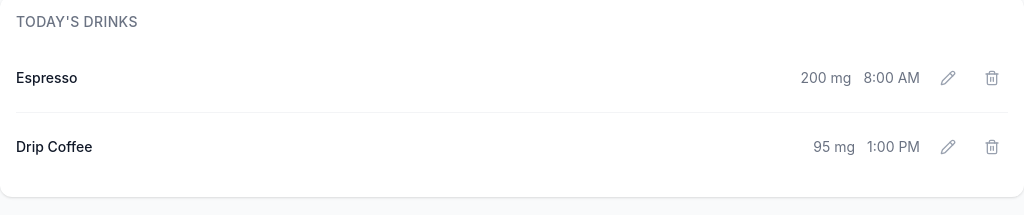
Test: DrinkHistory › delete drink › second click removes drink from store
Click the button named "delete espresso" at (992, 78), box [976, 56, 1008, 100]
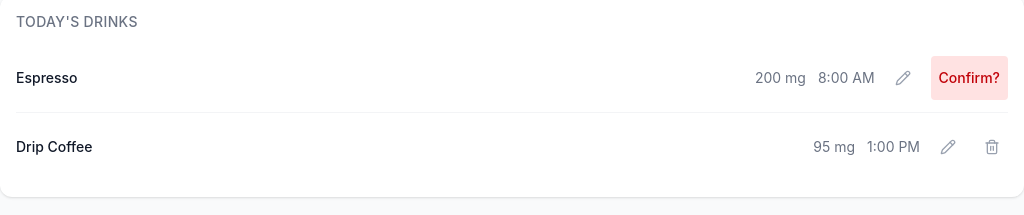
Click the button "Confirm?" at (969, 78), box [931, 56, 1008, 100]
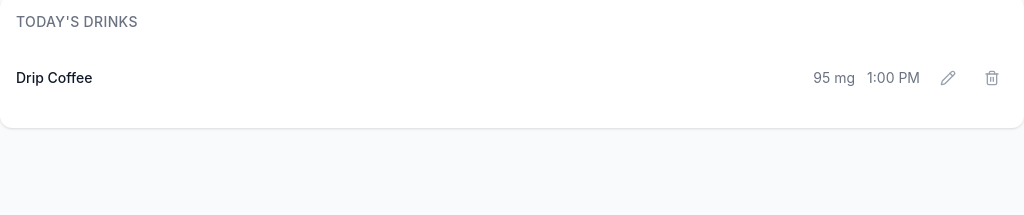
Now the text "Espresso" is gone
